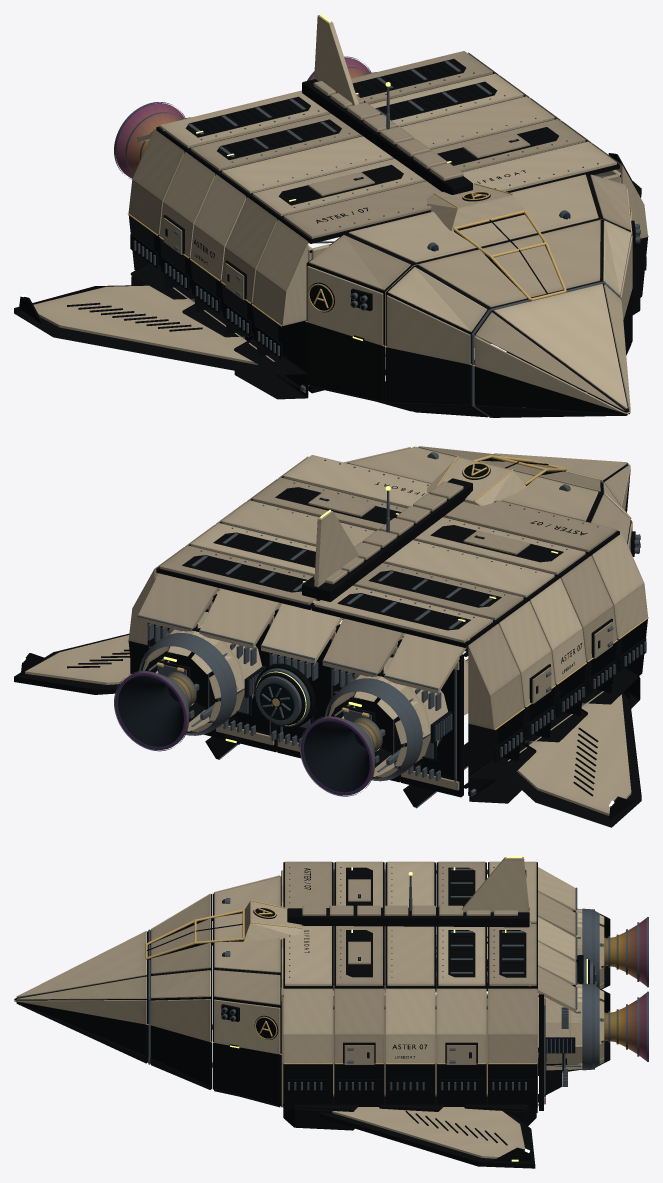
File: lifeboat.glb
3 views of the same model, one above another, from view 1: azimuth 30°, elevation 25°; view 2: azimuth 150°, elevation 25°; view 3: azimuth 270°, elevation 25° (orthographic). The views are drawn at different scales.
Visible parts, largest first — view 1: wing_L, bow_stage_2_petal_1, bow_stage_1_petal_1, bow_stage_1_petal_7, bow_stage_3_petal_1, bow_stage_2_petal_7, hull_clad_L_1, bow_stage_3_petal_7, spine_dorsal, roof_plate_5_L, roof_plate_4_L, roof_plate_2_L (+28 smaller); view 2: wing_L, hull_clad_stern_1, hull_clad_L_5, engine_nacelle_L, hull_clad_stern_4, hull_clad_stern_3, engine_nacelle_R, roof_plate_1_L, engine_nozzle_L, engine_nozzle_R, spine_dorsal, roof_plate_1_R (+28 smaller); view 3: wing_R, hull_clad_R_2, hull_clad_R_4, hull_clad_R_3, bow_stage_1_petal_3, hull_clad_R_5, hull_clad_R_1, spine_dorsal, bow_stage_2_petal_3, engine_nacelle_R, bow_stage_1_petal_1, bow_stage_3_petal_3 (+30 smaller).
Boxes of the visible parts, left/top/right/bottom form: wing_L: left=14, top=285, right=274, bottom=374; bow_stage_2_petal_1: left=414, top=219, right=602, bottom=309; bow_stage_1_petal_1: left=344, top=174, right=602, bottom=265; bow_stage_1_petal_7: left=305, top=263, right=384, bottom=401; bow_stage_3_petal_1: left=489, top=281, right=628, bottom=414; bow_stage_2_petal_7: left=384, top=292, right=471, bottom=404; hull_clad_L_1: left=251, top=220, right=308, bottom=392; bow_stage_3_petal_7: left=471, top=334, right=626, bottom=413; spine_dorsal: left=302, top=79, right=472, bottom=194; roof_plate_5_L: left=280, top=181, right=441, bottom=243; roof_plate_4_L: left=249, top=158, right=425, bottom=220; roof_plate_2_L: left=187, top=113, right=362, bottom=175; wing_L: left=508, top=685, right=641, bottom=827; hull_clad_stern_1: left=384, top=633, right=469, bottom=797; hull_clad_L_5: left=468, top=623, right=524, bottom=796; engine_nacelle_L: left=325, top=633, right=468, bottom=781; hull_clad_stern_4: left=199, top=588, right=281, bottom=752; hull_clad_stern_3: left=260, top=600, right=342, bottom=758; engine_nacelle_R: left=139, top=588, right=266, bottom=735; roof_plate_1_L: left=311, top=585, right=495, bottom=647; engine_nozzle_L: left=300, top=716, right=382, bottom=796; engine_nozzle_R: left=114, top=671, right=196, bottom=751; spine_dorsal: left=302, top=478, right=472, bottom=601; roof_plate_1_R: left=156, top=545, right=320, bottom=609; wing_R: left=320, top=1107, right=535, bottom=1168; hull_clad_R_2: left=334, top=988, right=384, bottom=1106; hull_clad_R_4: left=436, top=988, right=486, bottom=1106; hull_clad_R_3: left=385, top=988, right=435, bottom=1104; bow_stage_1_petal_3: left=213, top=997, right=281, bottom=1106; hull_clad_R_5: left=488, top=988, right=537, bottom=1112; hull_clad_R_1: left=283, top=988, right=332, bottom=1112; spine_dorsal: left=287, top=905, right=529, bottom=927; bow_stage_2_petal_3: left=150, top=997, right=212, bottom=1087; engine_nacelle_R: left=537, top=983, right=610, bottom=1075; bow_stage_1_petal_1: left=213, top=876, right=281, bottom=974; bow_stage_3_petal_3: left=14, top=999, right=150, bottom=1057.
Size of the model in its own units: 25.4 by 10.77 by 28.32.
Materials: 12 (6 with a texture image).
